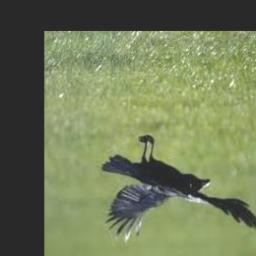Crow: (100, 135, 256, 247)
